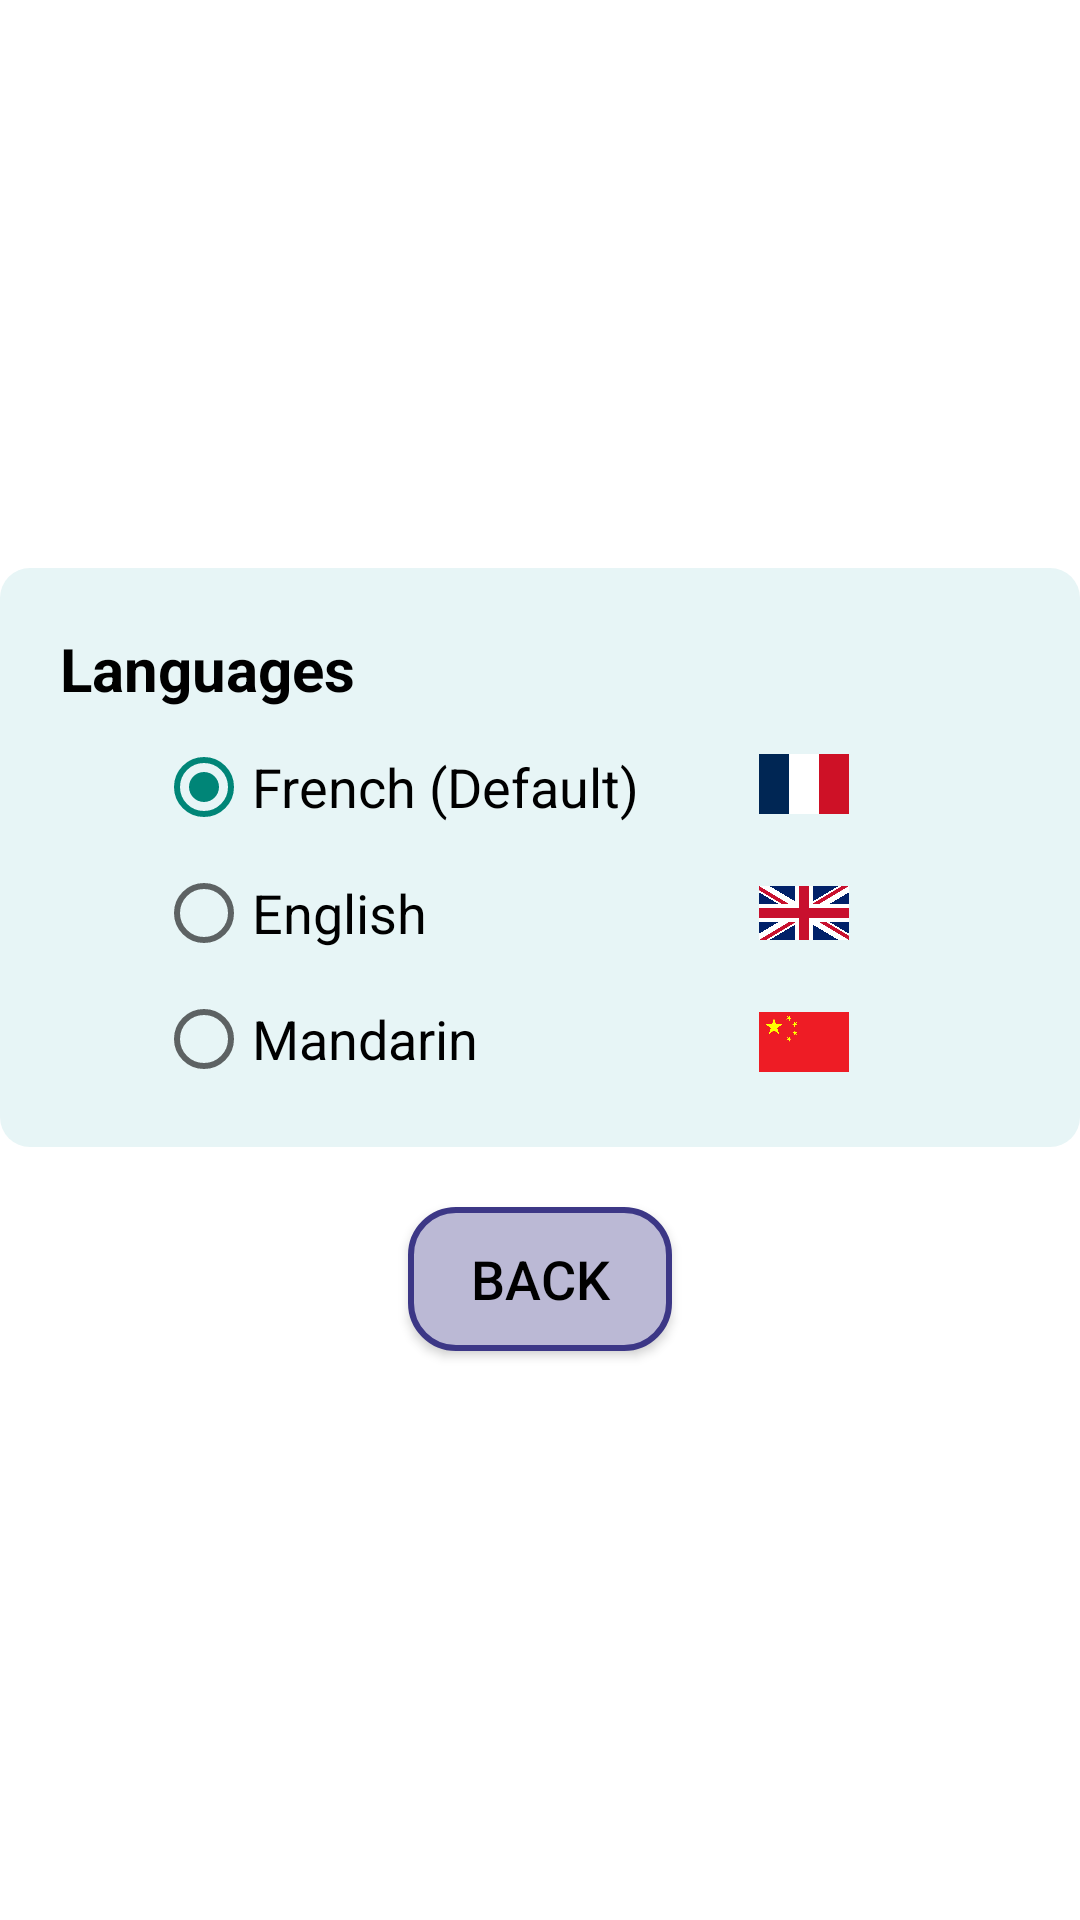

Icons on this 1080 × 1920 Android screen, each with the point to tap as (x=x, y=y):
chine: (x=804, y=1042)
